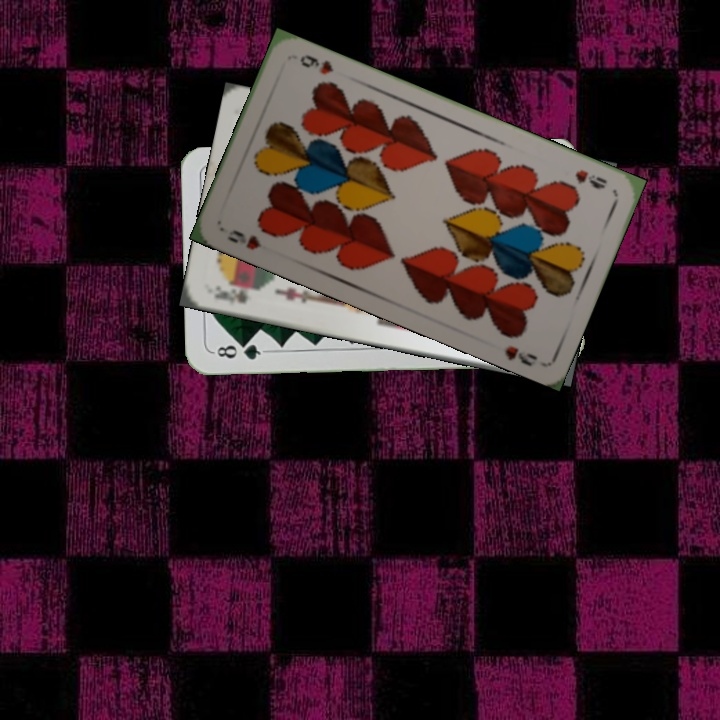G8: (210, 339, 269, 363)
H9: (223, 225, 264, 253), (570, 165, 610, 192)
SK: (209, 280, 263, 307)
